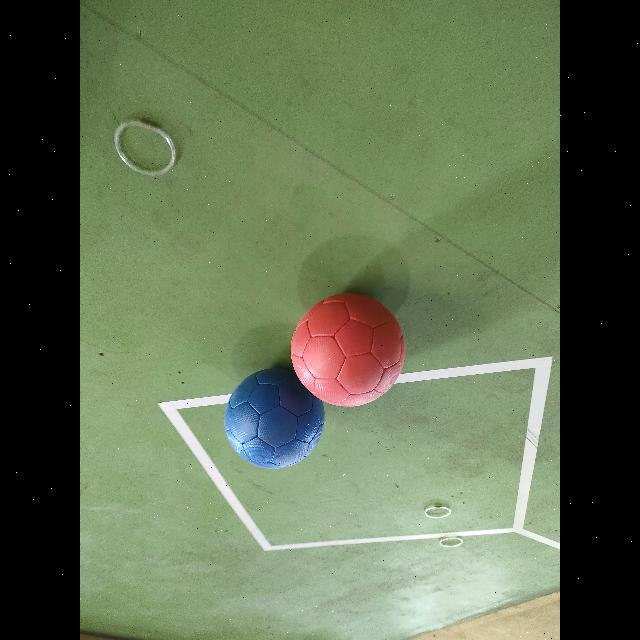B: (225, 368, 325, 468)
R: (292, 294, 404, 406)
